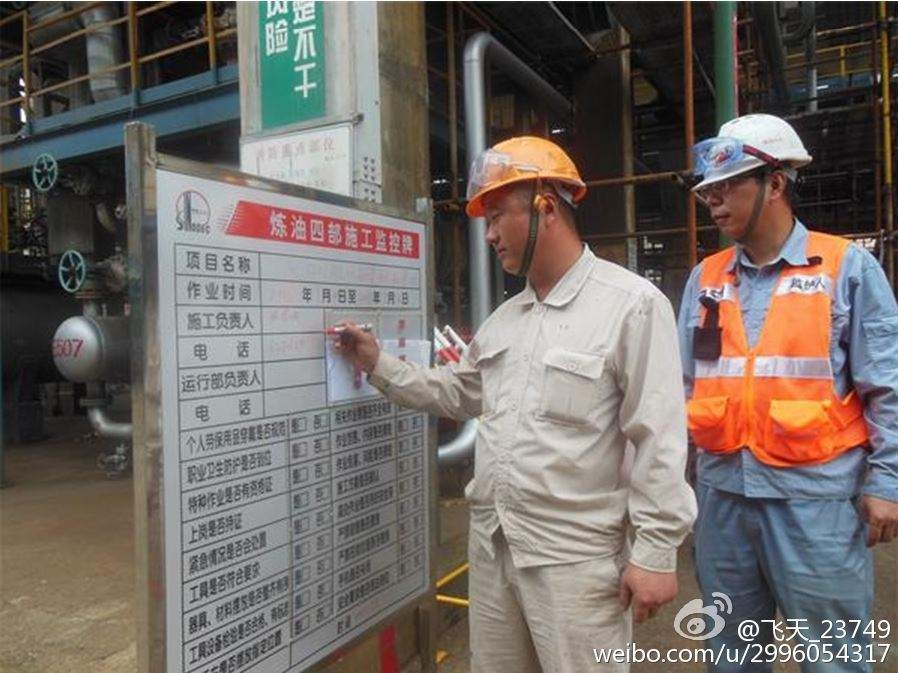white: (690, 114, 809, 247)
yellow: (464, 136, 578, 282)
